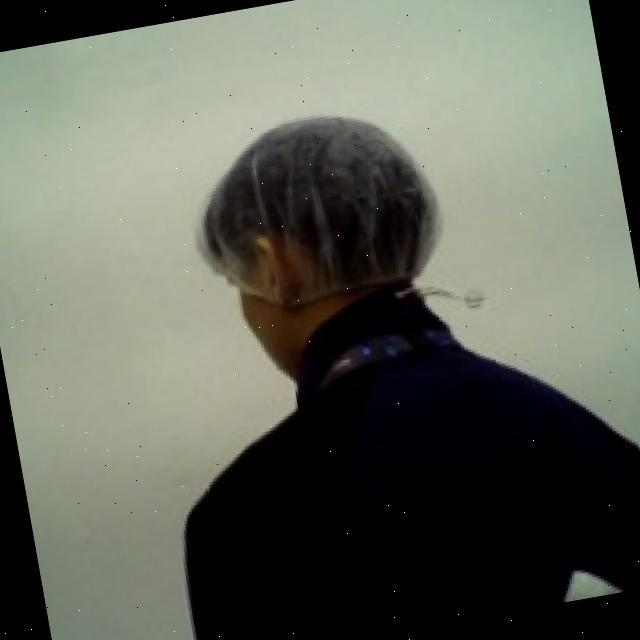gloves: (174, 86, 463, 344)
